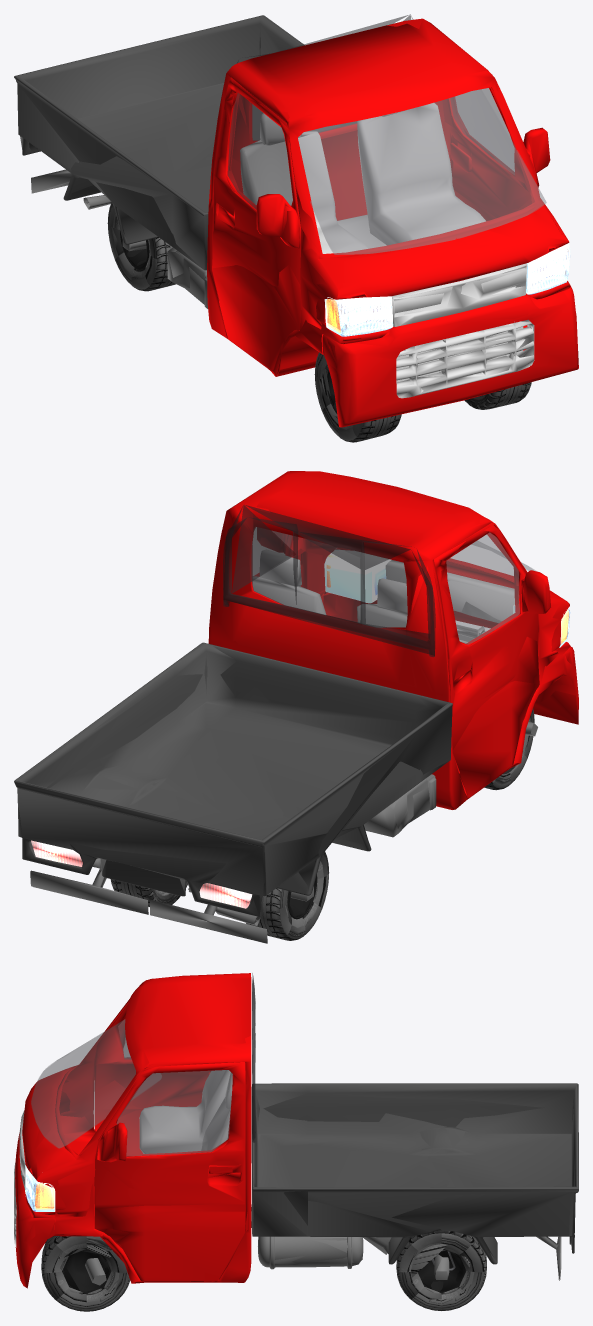
File: kl_minitruck.glb
3 views of the same model, one above another, from view 1: azimuth 30°, elevation 25°; view 2: azimuth 150°, elevation 25°; view 3: azimuth 270°, elevation 25° (orthographic). The views are drawn at different scales.
Parts seen in each view (by area): view 1: body_2 (×2), body_4 (×2), body_3 (×2), body_34, door_R, body_29, spin (×3), body_31, body_6, body_0 (×2), door_L; view 2: body_3 (×2), body_2 (×2), body_4 (×2), door_R, body_9, body_0 (×2), body_33, body_34, spin (×3), body_31, body_35, body_6 (+3 smaller); view 3: body_3 (×2), body_2 (×2), body_4 (×2), door_L, spin (×4), body_34, body_0 (×2), door_R, body_29, body_33, body_31.
Boxes of the visible parts, x1,y1,x2,y2 form: body_2 (×2): (211, 18, 578, 427); body_4 (×2): (228, 88, 546, 254); body_3 (×2): (14, 15, 356, 269); body_34: (240, 103, 485, 253); door_R: (171, 99, 271, 370); body_29: (324, 215, 534, 398); spin (×3): (107, 202, 531, 442); body_31: (325, 243, 570, 336); body_6: (393, 269, 534, 393); body_0 (×2): (31, 169, 206, 304); door_L: (434, 98, 500, 220); body_3 (×2): (14, 643, 452, 916); body_2 (×2): (209, 471, 578, 809); body_4 (×2): (252, 531, 535, 644); door_R: (407, 579, 511, 823); body_9: (223, 505, 434, 655); body_0 (×2): (30, 775, 433, 943); body_33: (223, 518, 434, 656); body_34: (252, 550, 407, 627); spin (×3): (110, 708, 534, 940); body_31: (324, 550, 570, 647); body_35: (31, 840, 252, 908); body_6: (448, 580, 514, 633); body_3 (×2): (251, 1083, 578, 1264); body_2 (×2): (15, 973, 251, 1288); body_4 (×2): (31, 1019, 232, 1155); door_L: (145, 1082, 307, 1282); spin (×4): (41, 1230, 486, 1311); body_34: (139, 1070, 232, 1153); body_0 (×2): (251, 1204, 561, 1280); door_R: (144, 1073, 307, 1132); body_29: (14, 1110, 25, 1247); body_33: (252, 973, 255, 1141); body_31: (25, 1165, 55, 1211).
Size of the model in its own units: 1.95 by 2 by 3.8.
13 materials, 1 textured.
